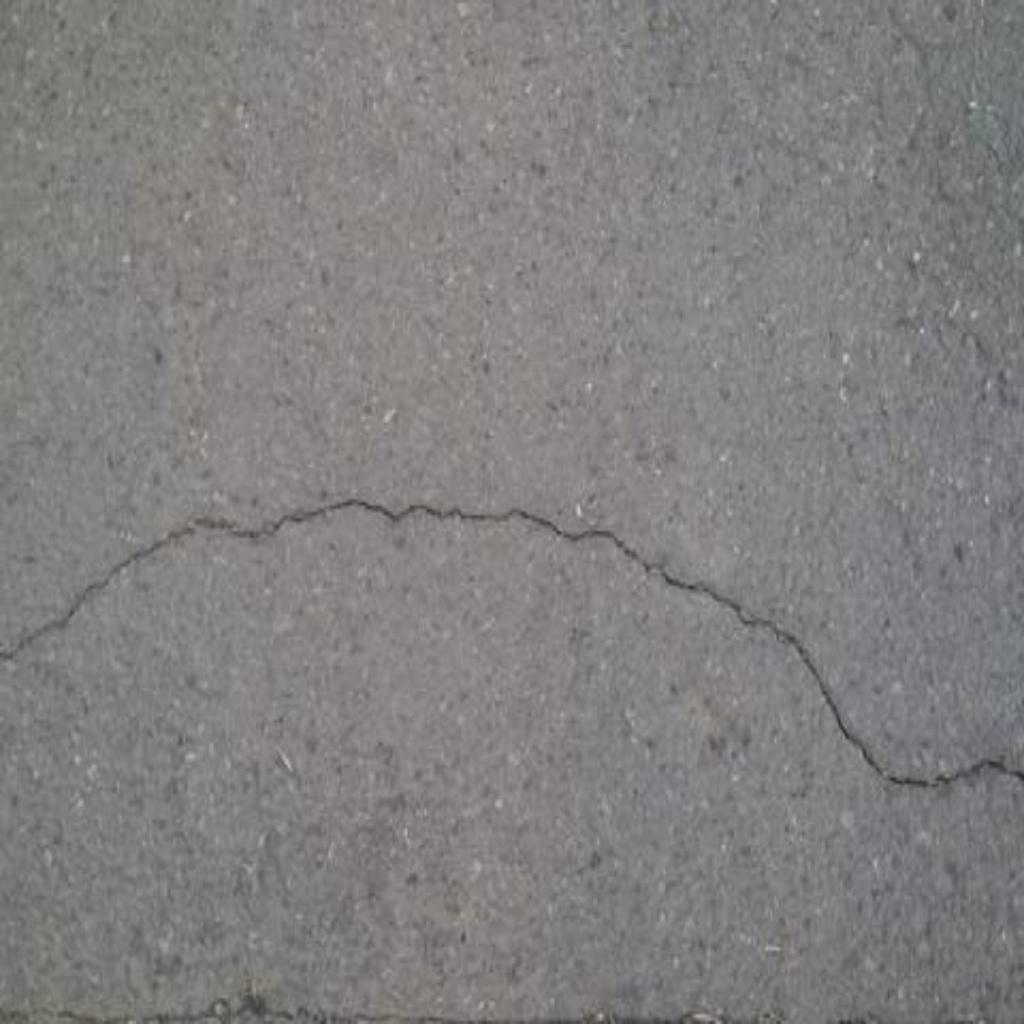Crack: (1, 494, 1024, 791)
